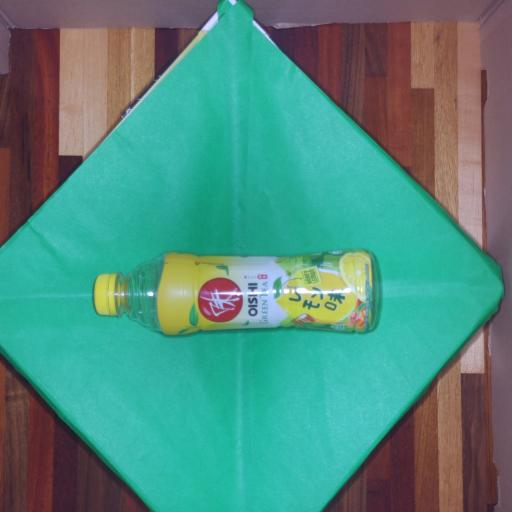bottle: (70, 235, 395, 348)
